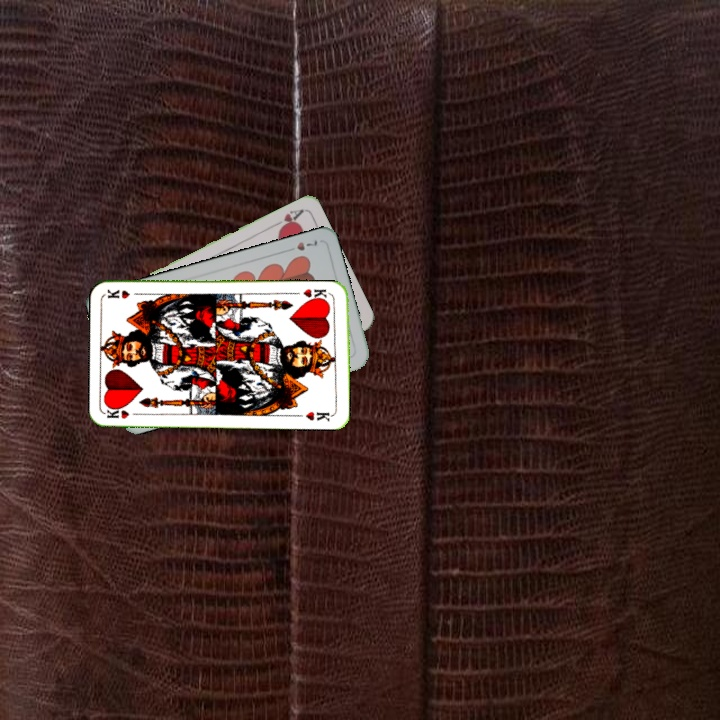H7: (282, 236, 320, 254)
HA: (268, 205, 306, 234)
HK: (104, 403, 144, 421), (299, 285, 329, 304)
